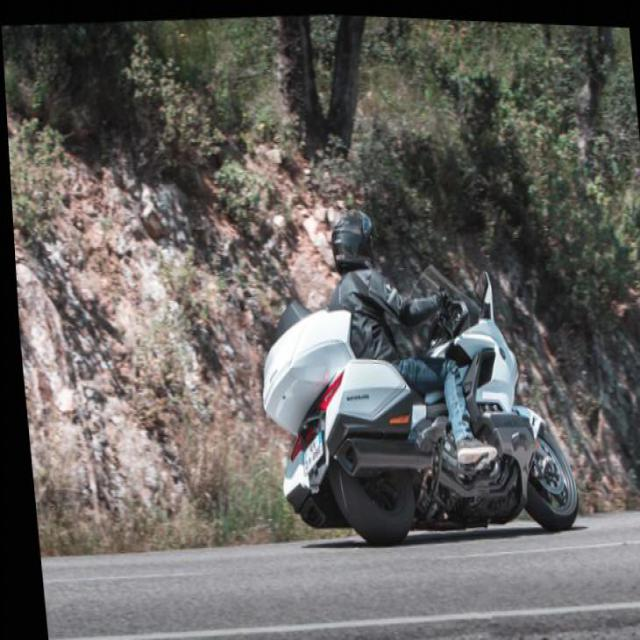Gold Wing: (245, 241, 579, 557)
